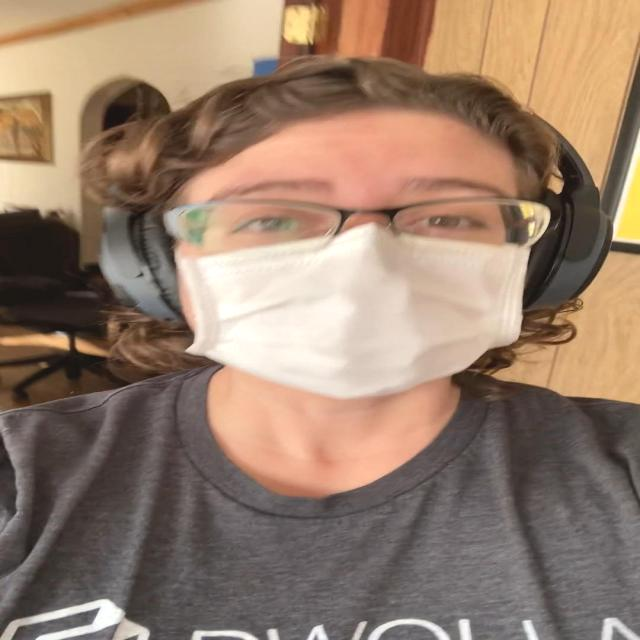mask: (177, 238, 538, 396)
no_helmet: (115, 54, 565, 180)
no_vest: (0, 381, 640, 640)
person: (0, 54, 640, 640)
